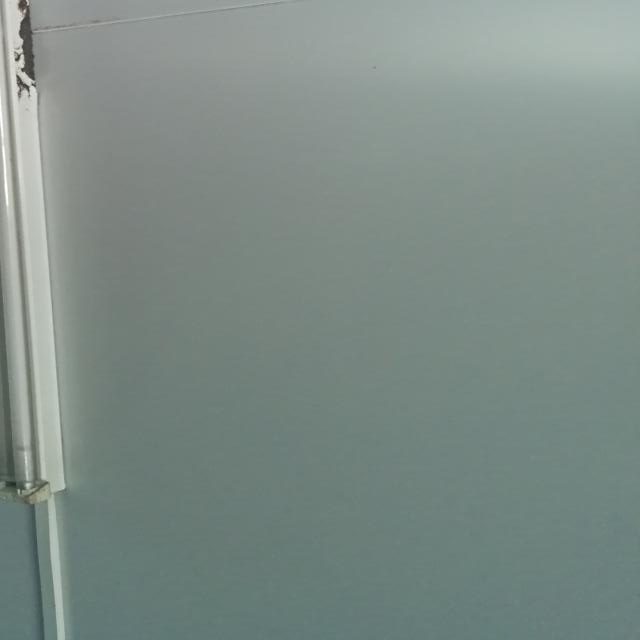fluorescent tube: (0, 0, 88, 521)
